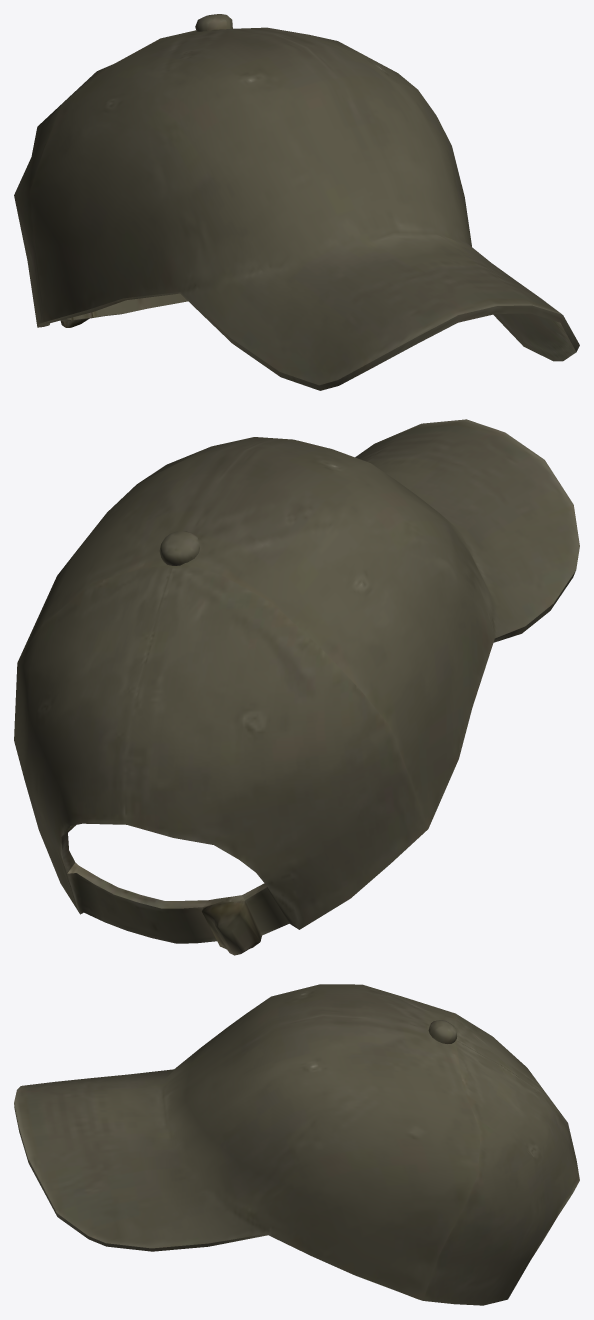
The model's file is patrol_cap.glb.
The picture shows the model from 3 angles, top to bottom: view 1: azimuth 30°, elevation 25°; view 2: azimuth 150°, elevation 25°; view 3: azimuth 270°, elevation 25°; orthographic projection. The views are drawn at different scales.
Parts seen in each view (by area): view 1: patrol_cap; view 2: patrol_cap; view 3: patrol_cap.
Boxes of the visible parts, x1=… form: patrol_cap: x1=14, y1=14, x2=579, y2=390; patrol_cap: x1=14, y1=419, x2=579, y2=955; patrol_cap: x1=14, y1=984, x2=579, y2=1305.
Bounding box in the file's own units: 0.1853 × 0.1761 × 0.33.
Materials: 1 (1 with a texture image).
